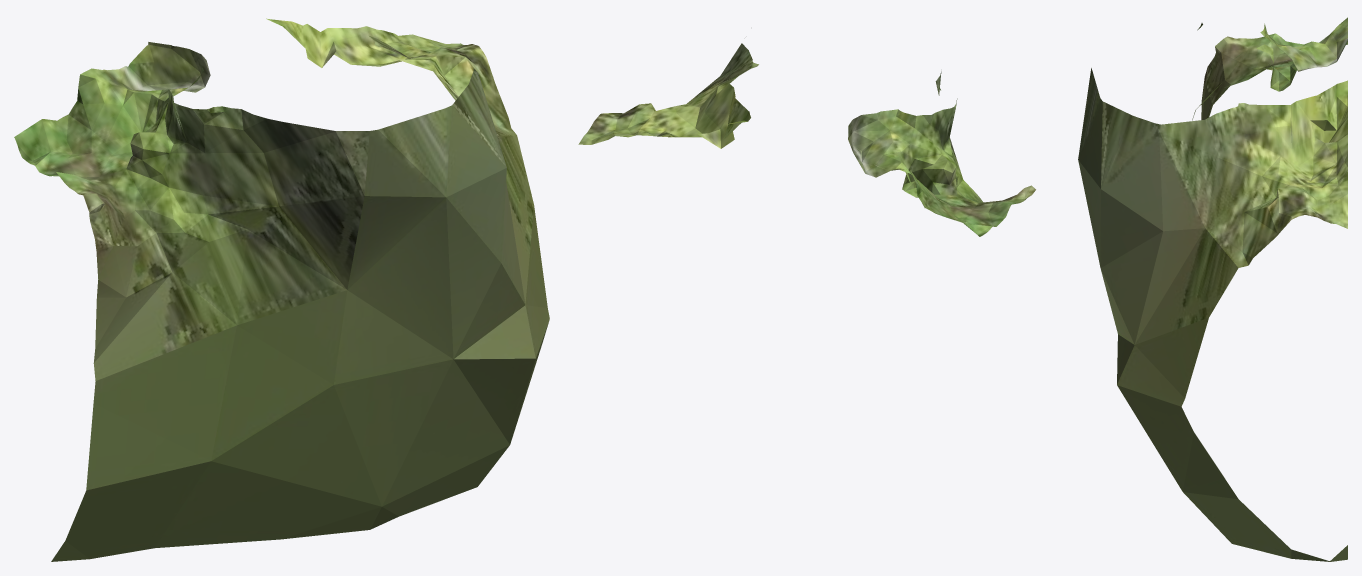
3 views of the same model, side by side, from view 1: azimuth 30°, elevation 25°; view 2: azimuth 150°, elevation 25°; view 3: azimuth 270°, elevation 25° (orthographic). The views are drawn at different scales.
Bounding box in the file's own units: 2.95 × 2.95 × 1.8.
Materials: 3 (3 with a texture image).
